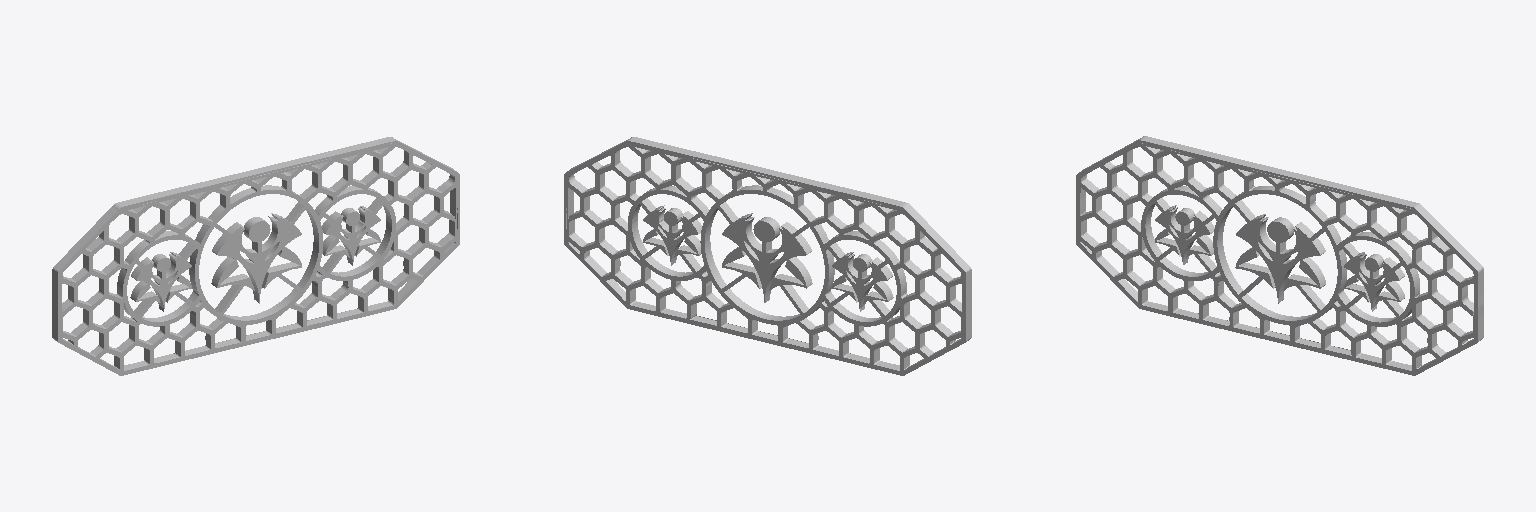
File: boss_shield_v2.obj
The picture shows the model from 3 angles: view 1: azimuth 30°, elevation 25°; view 2: azimuth 150°, elevation 25°; view 3: azimuth 330°, elevation 25°; orthographic projection.
Parts seen in each view (by area): view 1: Gitter-noimp_Curve.001; view 2: Gitter-noimp_Curve.001; view 3: Gitter-noimp_Curve.001.
Part boxes in pixels (bbox=[...]): Gitter-noimp_Curve.001: bbox=[52, 137, 459, 375]; Gitter-noimp_Curve.001: bbox=[564, 137, 971, 375]; Gitter-noimp_Curve.001: bbox=[1076, 136, 1483, 375].
Bounding box in the file's own units: 1.42 × 0.5697 × 0.0347.